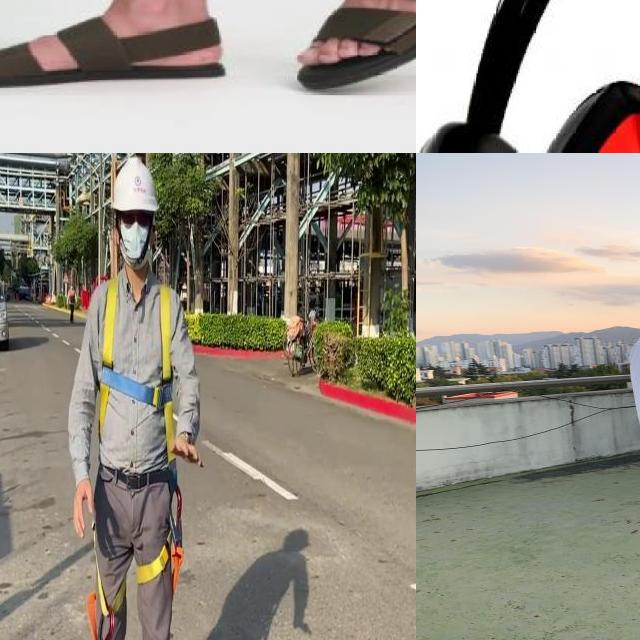Ear-protection: (416, 0, 640, 153)
Harness: (88, 465, 185, 640), (99, 276, 174, 464)
Sandals: (0, 0, 230, 95), (292, 0, 416, 104)
